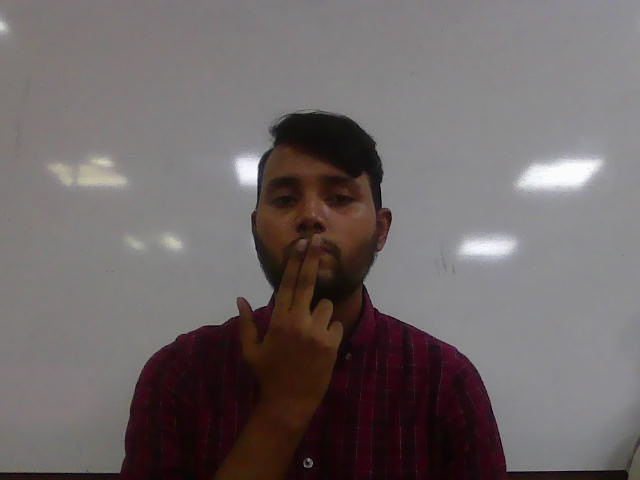Bak: (235, 233, 344, 431)
